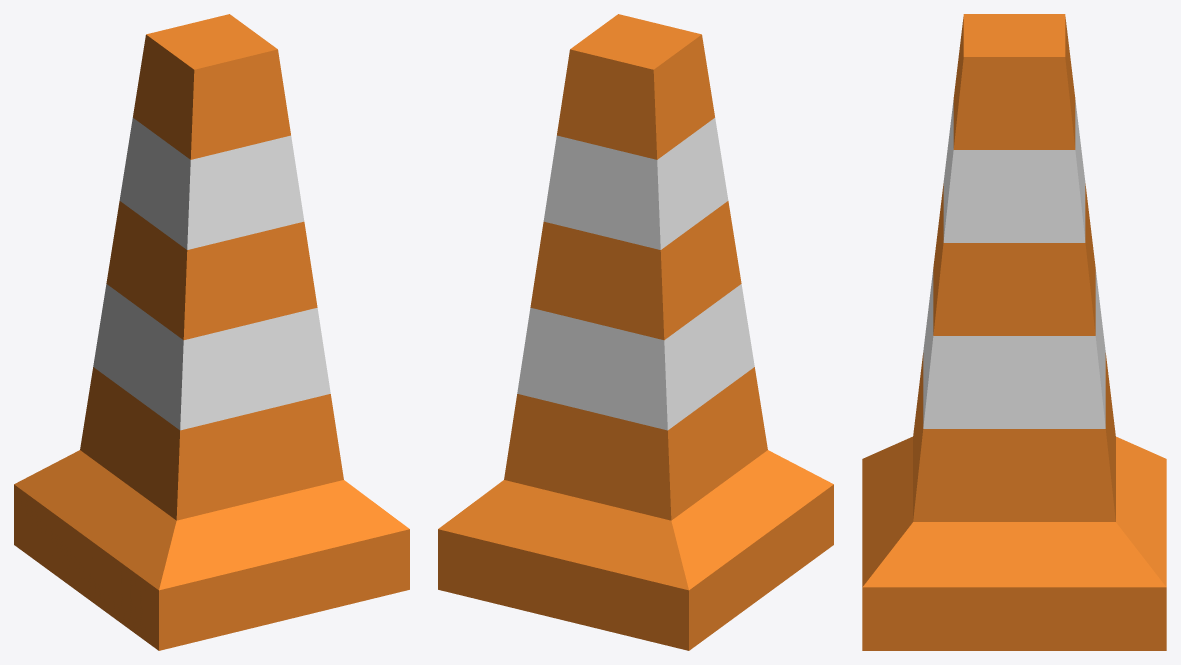
The picture shows the model from 3 angles, left to right: view 1: azimuth 30°, elevation 25°; view 2: azimuth 150°, elevation 25°; view 3: azimuth 270°, elevation 25°; orthographic projection. The views are drawn at different scales.
Parts seen in each view (by area): view 1: Cube.068; view 2: Cube.068; view 3: Cube.068.
Boxes of the visible parts, box(x1,y1,x2,y2) form: Cube.068: box(14, 14, 409, 650); Cube.068: box(438, 14, 833, 650); Cube.068: box(862, 14, 1166, 650).
Bounding box in the file's own units: 112 × 225 × 112.
1 material, 1 textured.
